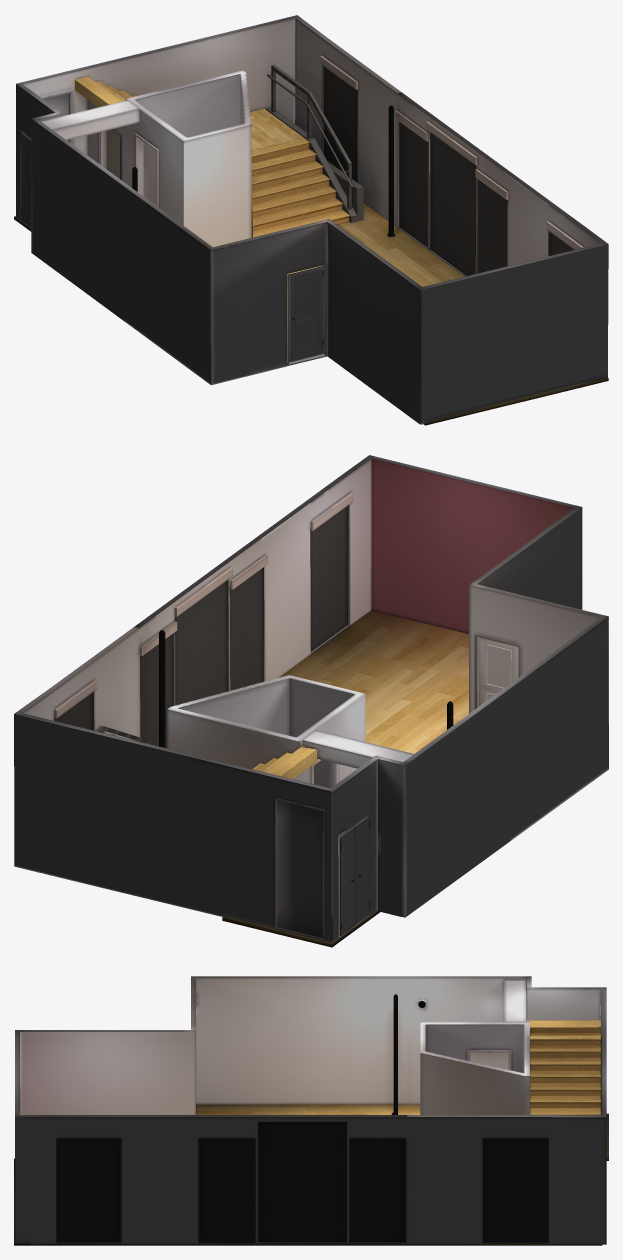
File: Stage_v3_sc3_staging.glb
3 views of the same model, one above another, from view 1: azimuth 30°, elevation 25°; view 2: azimuth 150°, elevation 25°; view 3: azimuth 270°, elevation 25° (orthographic). The views are drawn at different scales.
Parts seen in each view (by area): view 1: frl_apartment_wall_arch.004, frl_apartment_blinds.004, frl_apartment_stair.004, frl_apartment_floor.004, frl_apartment_door_01.004, frl_apartment_door_05.004, frl_apartment_pipe.004, frl_apartment_door_part_03.004, frl_apartment_door_part_04.004; view 2: frl_apartment_wall_arch.004, frl_apartment_blinds.004, frl_apartment_floor.004, frl_apartment_door_04.004, frl_apartment_door_01.004, frl_apartment_door_05.004, frl_apartment_door_06.004, frl_apartment_stair.004, frl_apartment_pipe.004, frl_apartment_door_part_02.004; view 3: frl_apartment_wall_arch.004, frl_apartment_blinds.004, frl_apartment_stair.004, frl_apartment_floor.004, frl_apartment_pipe.004.
Boxes of the visible parts, bbox=[...] form: frl_apartment_wall_arch.004: bbox=[16, 15, 608, 424]; frl_apartment_blinds.004: bbox=[320, 56, 583, 275]; frl_apartment_stair.004: bbox=[75, 65, 363, 237]; frl_apartment_floor.004: bbox=[14, 203, 608, 425]; frl_apartment_door_01.004: bbox=[289, 267, 323, 362]; frl_apartment_door_05.004: bbox=[21, 133, 31, 226]; frl_apartment_pipe.004: bbox=[132, 105, 395, 236]; frl_apartment_door_part_03.004: bbox=[287, 265, 327, 365]; frl_apartment_door_part_04.004: bbox=[135, 133, 158, 207]; frl_apartment_wall_arch.004: bbox=[14, 455, 608, 943]; frl_apartment_blinds.004: bbox=[54, 492, 353, 748]; frl_apartment_floor.004: bbox=[222, 610, 468, 947]; frl_apartment_door_04.004: bbox=[276, 800, 323, 938]; frl_apartment_door_01.004: bbox=[479, 637, 518, 706]; frl_apartment_door_05.004: bbox=[340, 827, 355, 935]; frl_apartment_door_06.004: bbox=[354, 816, 370, 924]; frl_apartment_stair.004: bbox=[94, 725, 317, 778]; frl_apartment_pipe.004: bbox=[159, 630, 453, 747]; frl_apartment_door_part_02.004: bbox=[275, 797, 324, 940]; frl_apartment_wall_arch.004: bbox=[15, 976, 606, 1244]; frl_apartment_blinds.004: bbox=[56, 1122, 548, 1242]; frl_apartment_stair.004: bbox=[526, 1020, 600, 1115]; frl_apartment_floor.004: bbox=[14, 1104, 608, 1245]; frl_apartment_pipe.004: bbox=[391, 994, 397, 1114].
Size of the model in its own units: 7.26 by 3.14 by 12.93.
Materials: 1 (1 with a texture image).
